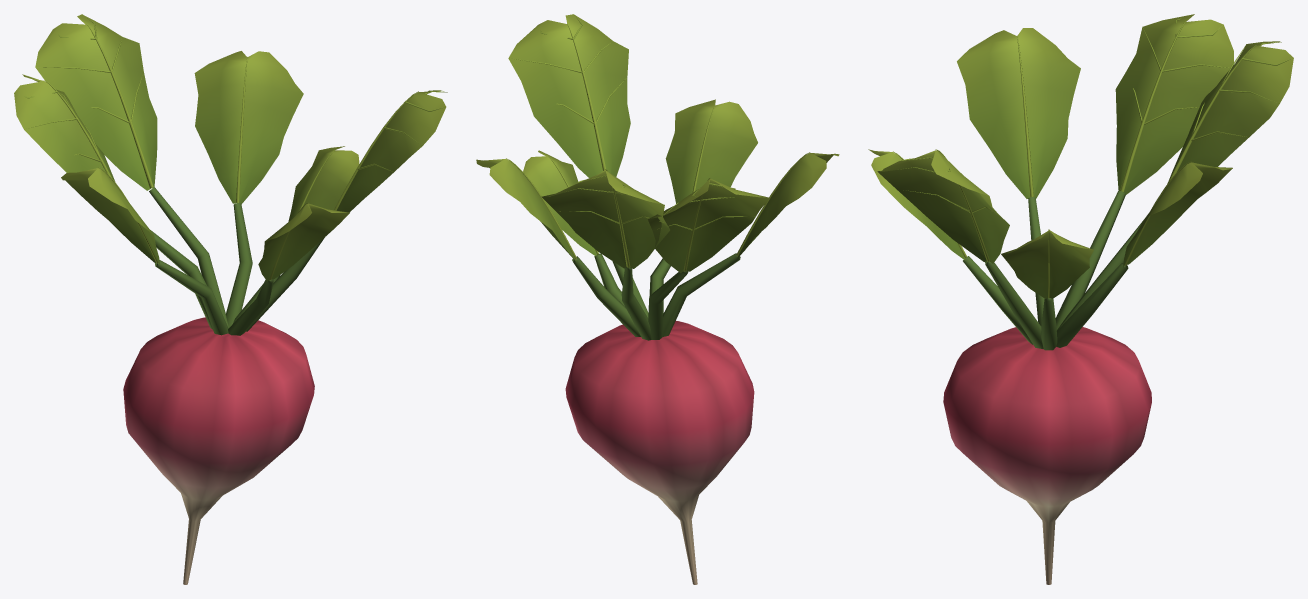
Rendered from radish.glb.
3 views of the same model, side by side, from view 1: azimuth 30°, elevation 25°; view 2: azimuth 150°, elevation 25°; view 3: azimuth 270°, elevation 25° (orthographic). The views are drawn at different scales.
Visible parts, largest first — view 1: Plant; view 2: Plant; view 3: Plant.
Boxes of the visible parts, <box> form: Plant: <box>14,14,447,584</box>; Plant: <box>476,14,839,584</box>; Plant: <box>868,14,1293,584</box>.
Size of the model in its own units: 0.3315 by 0.4527 by 0.3255.
